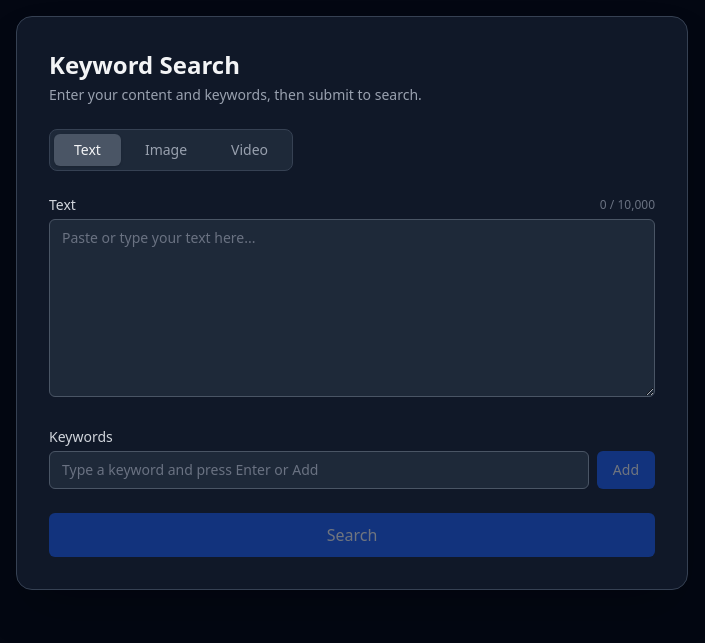
Test: App › text tab › enables submit when text and at least one keyword are provided
Type "some text here" into the text box with placeholder "Paste or type your text here..." at (352, 308), box x1=49 y1=219 x2=655 y2=397
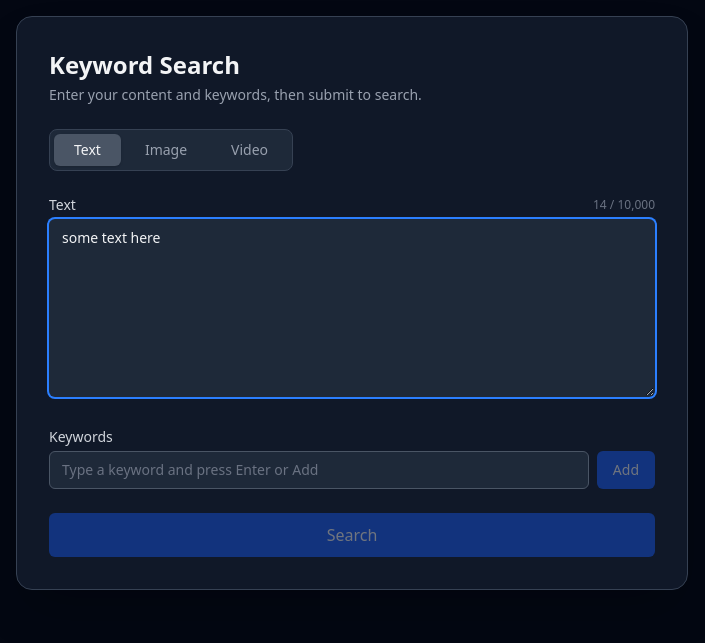
Type "ryan" into the field with placeholder "Type a keyword and press Enter or Add" at (319, 470), box x1=49 y1=451 x2=589 y2=489
Then press Enter
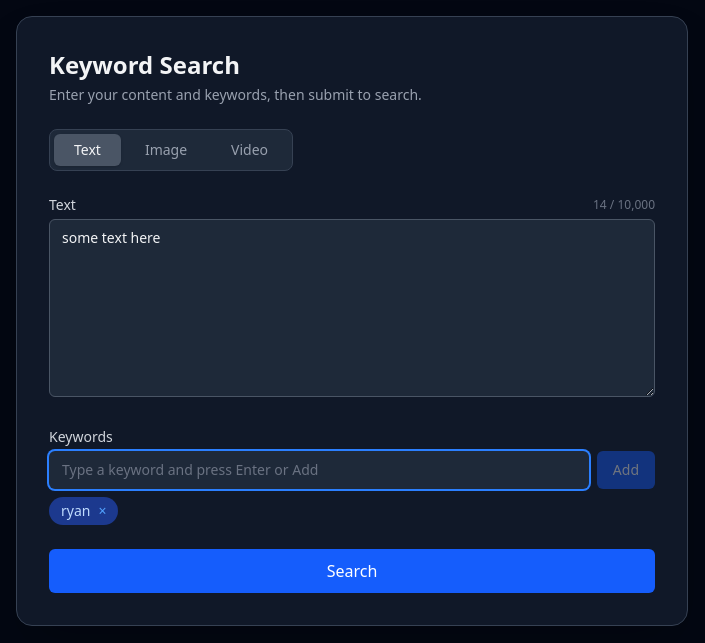
Expected: the button "Search" is enabled, x1=49 y1=549 x2=655 y2=593
